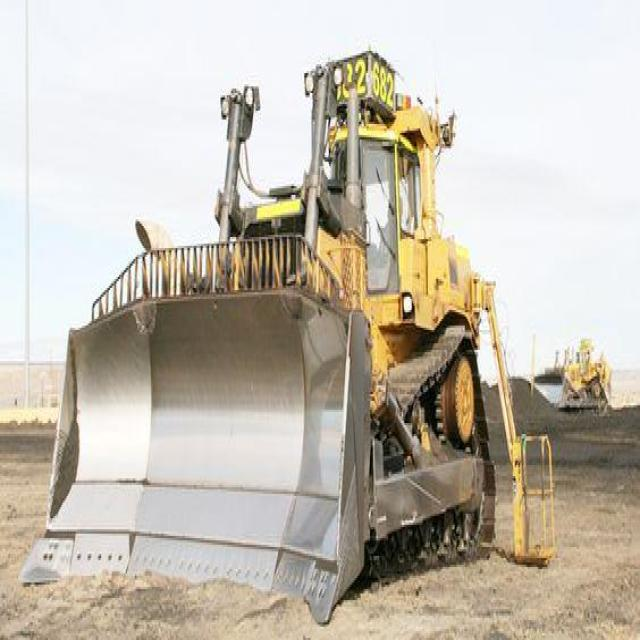buldozerpayloadergrader: (42, 29, 524, 627)
